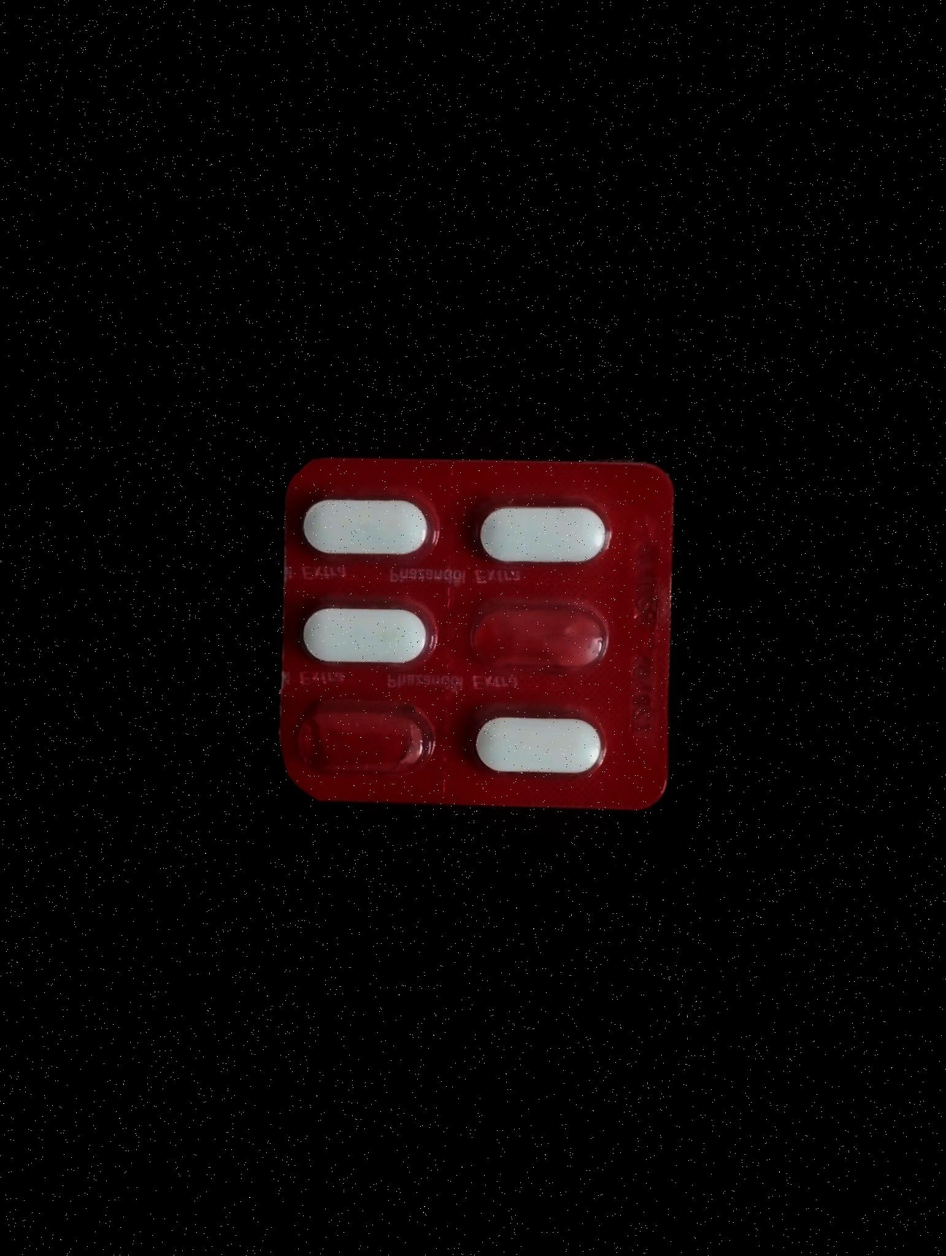Empty: (461, 584, 622, 682), (299, 700, 437, 778)
Full: (464, 702, 613, 784), (463, 492, 617, 569), (296, 483, 433, 564), (299, 592, 435, 672)
